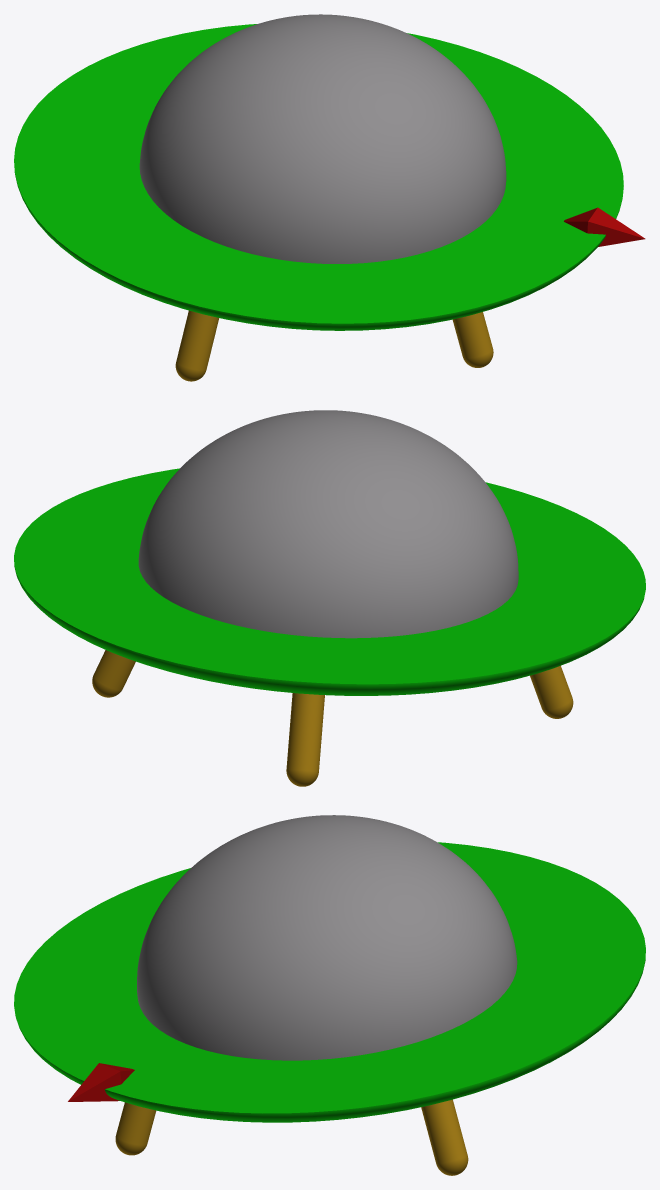
File: ufo.glb
The picture shows the model from 3 angles, top to bottom: view 1: azimuth 30°, elevation 25°; view 2: azimuth 150°, elevation 25°; view 3: azimuth 270°, elevation 25°; orthographic projection. The views are drawn at different scales.
Visible parts, largest first — view 1: mesh_id126, mesh_id120, mesh_id329, mesh_id353, mesh_id482; view 2: mesh_id120, mesh_id126, mesh_id336, mesh_id329, mesh_id354; view 3: mesh_id120, mesh_id126, mesh_id354, mesh_id353, mesh_id482.
Boxes of the visible parts, bbox=[...] form: mesh_id126: bbox=[14, 24, 623, 330]; mesh_id120: bbox=[139, 14, 506, 263]; mesh_id329: bbox=[175, 310, 219, 381]; mesh_id353: bbox=[452, 312, 493, 367]; mesh_id482: bbox=[587, 207, 645, 246]; mesh_id120: bbox=[138, 410, 518, 638]; mesh_id126: bbox=[14, 468, 645, 695]; mesh_id336: bbox=[286, 693, 324, 786]; mesh_id329: bbox=[530, 665, 573, 718]; mesh_id354: bbox=[92, 650, 135, 697]; mesh_id120: bbox=[137, 815, 517, 1060]; mesh_id126: bbox=[14, 842, 645, 1122]; mesh_id354: bbox=[421, 1099, 468, 1175]; mesh_id353: bbox=[115, 1102, 156, 1155]; mesh_id482: bbox=[68, 1063, 121, 1101].
Bounding box in the file's own units: 0.491 × 0.2447 × 0.489.
Materials: 9 (9 with a texture image).
